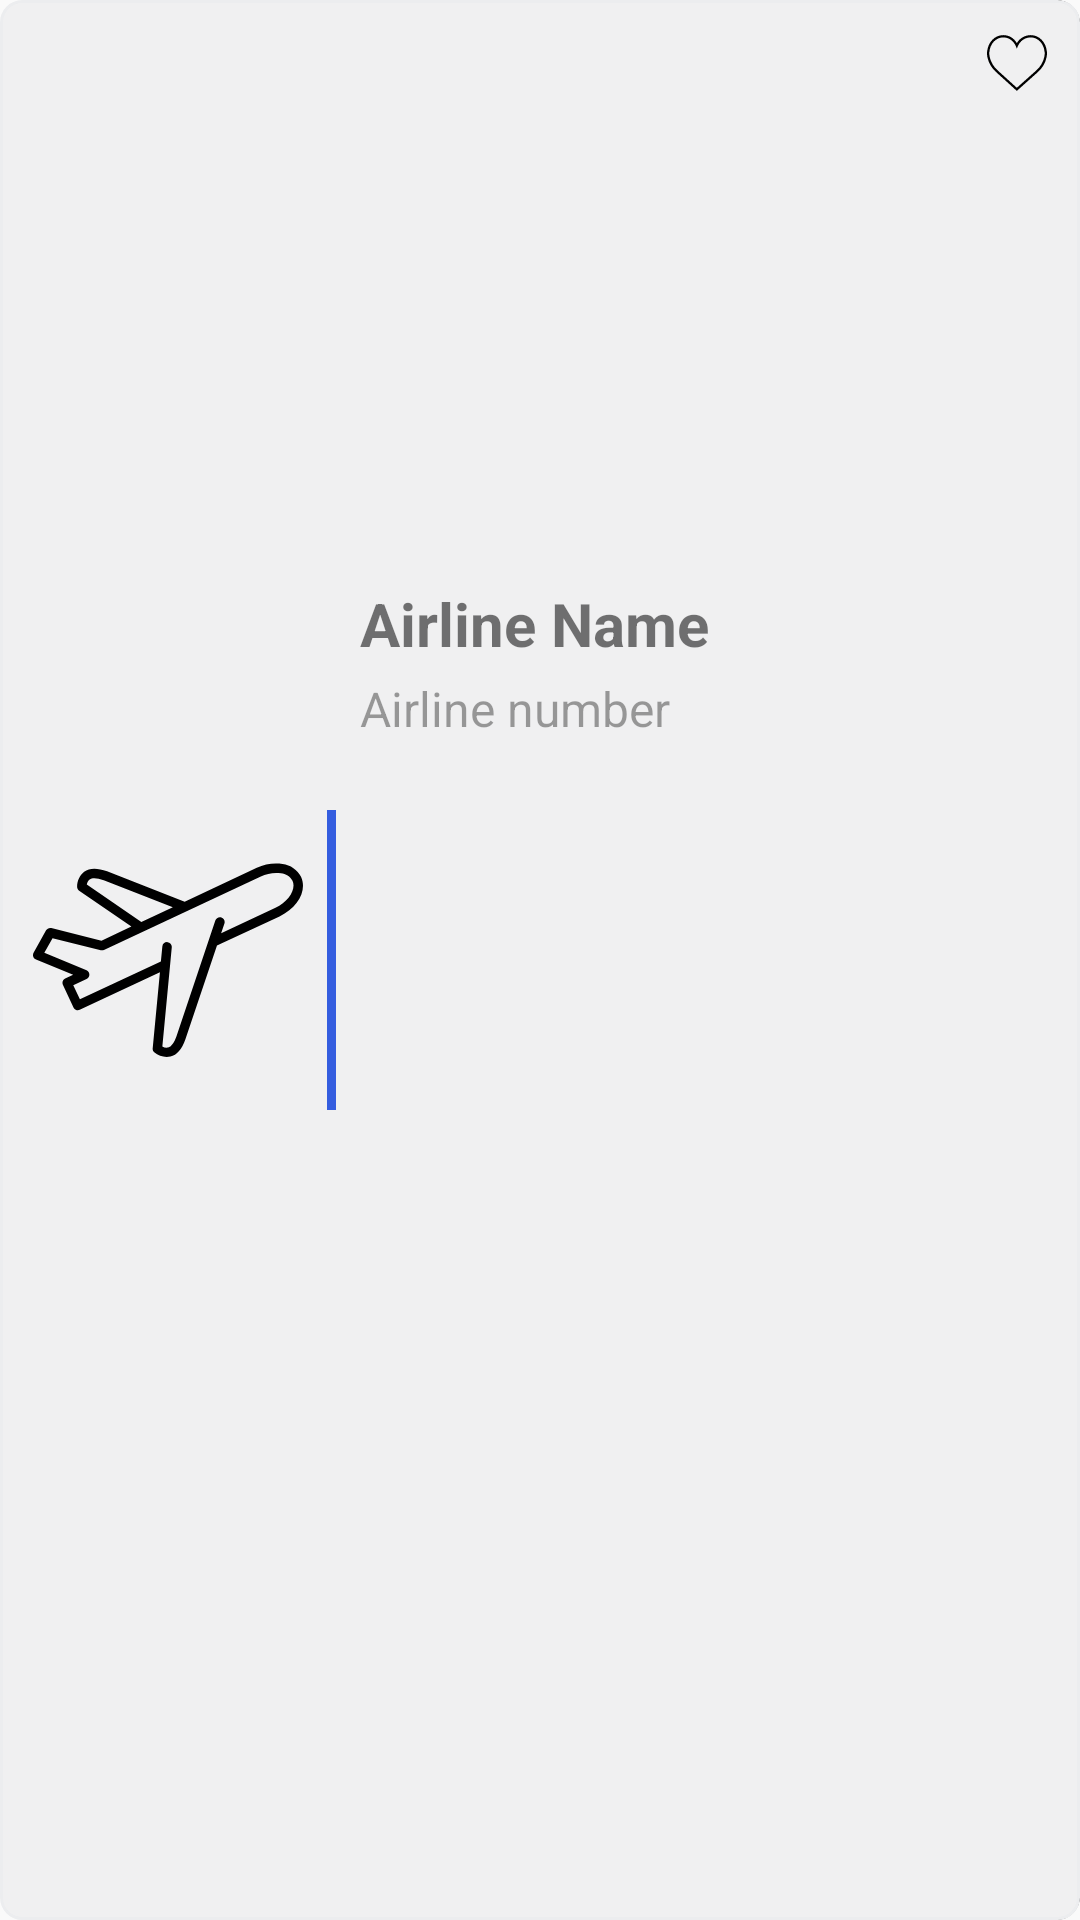

Screen size 1080px x 1920px. Icon name, then its box in pixels as rect(x1, y1, x2, y2):
airplane: rect(33, 863, 303, 1057)
favorite border: rect(987, 35, 1047, 91)
